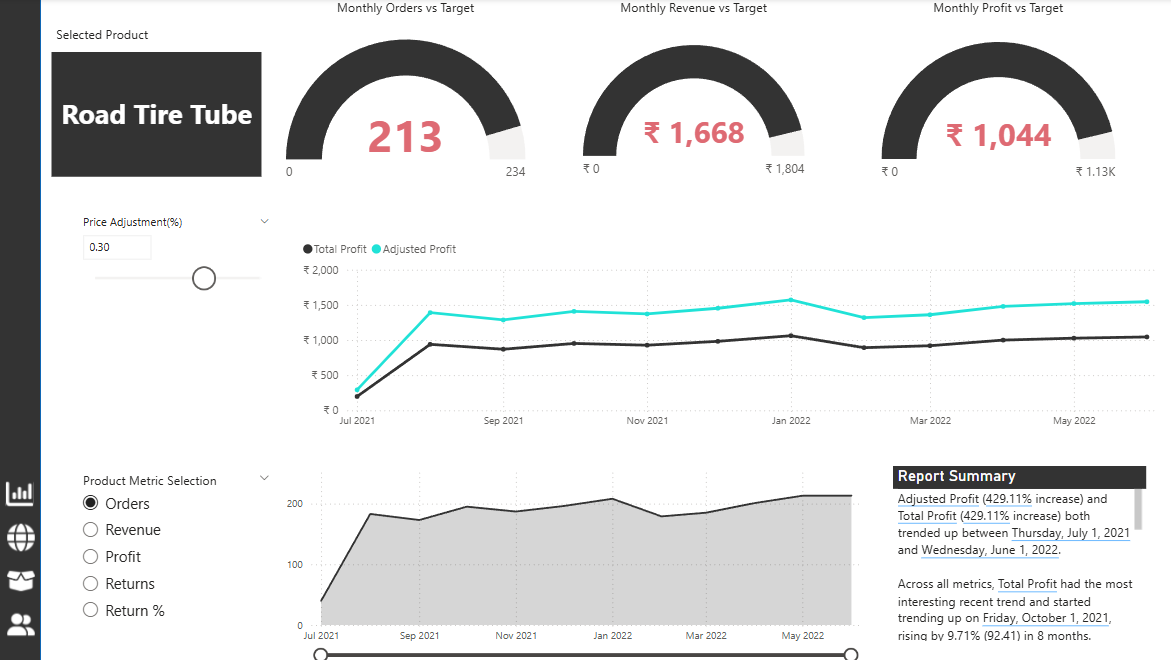

Layout of this report page (visuals, bound fields, positions):
{"tool":"powerbi","page":{"name":"Product Detail","canvas":[1280,720],"ordinal":2},"visuals":[{"type":"shape","box":[0,0,45.3,720.6],"z":0},{"type":"actionButton","box":[2.5,516.7,45.6,37.8],"z":0,"group":"g1"},{"type":"gauge","title":"Monthly Orders vs Target","fields":{"Y":["Measure Table.Total Orders"],"MaxValue":["Measure Table.Order Target"]},"box":[304.4,0,268.8,228.3],"z":1000},{"type":"actionButton","box":[3.3,563.4,45.6,37.8],"z":1000,"group":"g1"},{"type":"gauge","title":"Monthly Profit vs Target","fields":{"Y":["Measure Table.Total Profit"],"MaxValue":["Measure Table.Profit Target"]},"box":[946.8,0,262.7,230.6],"z":2000},{"type":"actionButton","box":[3.3,611.1,45.6,37.8],"z":2000,"group":"g1"},{"type":"gauge","title":"Monthly Revenue vs Target","fields":{"Y":["Measure Table.Total Revenue"],"MaxValue":["Measure Table.Revenue Target"]},"box":[624.6,0,249.5,230.6],"z":3000},{"type":"actionButton","box":[3.3,657.8,45.6,37.8],"z":3000,"group":"g1"},{"type":"areaChart","title":"Profit Trending","fields":{"Y":["Measure Table.Total Profit","Measure Table.Adjusted Profit"],"Category":["Calendar Lookup.Date Hierarchy.Start of Year","Calendar Lookup.Date Hierarchy.Start of Month","Calendar Lookup.Date Hierarchy.Start of Week","Calendar Lookup.Date Hierarchy.Date"]},"box":[322.2,251,945.6,221.8],"z":4000},{"type":"card","fields":{"Values":["Min(Product Lookup.ProductName)"]},"box":[56.7,58.3,226.7,134.4],"z":5000},{"type":"textbox","box":[56.7,24.3,173.3,34],"z":6000},{"type":"group","id":"g1","title":"Navigation Buttons","box":[2.5,516.7,46.4,178.9],"z":7000},{"type":"slicer","fields":{"Values":["Price Adjustment(%).Price Adjustment(%)"]},"box":[77.7,228.3,226.7,108.5],"z":8000},{"type":"slicer","fields":{"Values":["Product Metric Selection.Product Metric Selection"]},"box":[77.7,505.2,226.7,189.4],"z":9000},{"type":"areaChart","title":"Return Trending","fields":{"Y":["Measure Table.Total Orders"],"Category":["Calendar Lookup.Date Hierarchy.Start of Month","Calendar Lookup.Date Hierarchy.Start of Week","Calendar Lookup.Date Hierarchy.Date"]},"box":[304.4,498.7,644.5,221.8],"z":10000},{"type":"textbox","title":"Report Summary","box":[965.1,505.2,273.6,192.7],"z":11000}]}

Visuals, with their boxes on the page's 1280x720 design canvas (x1, y1, x2, y2). These are canvas units, not pixel positions in the 1171x660 screenshot, which may show the page scaled, cropped or inside an application window:
shape: bbox(0, 0, 45, 721)
actionButton: bbox(2, 517, 48, 554)
"Monthly Orders vs Target" gauge: bbox(304, 0, 573, 228)
actionButton: bbox(3, 563, 49, 601)
"Monthly Profit vs Target" gauge: bbox(947, 0, 1210, 231)
actionButton: bbox(3, 611, 49, 649)
"Monthly Revenue vs Target" gauge: bbox(625, 0, 874, 231)
actionButton: bbox(3, 658, 49, 696)
"Profit Trending" areaChart: bbox(322, 251, 1268, 473)
card - Min(Product Lookup.ProductName): bbox(57, 58, 283, 193)
textbox: bbox(57, 24, 230, 58)
"Navigation Buttons" group: bbox(2, 517, 49, 696)
slicer - Price Adjustment(%).Price Adjustment(%): bbox(78, 228, 304, 337)
slicer - Product Metric Selection.Product Metric Selection: bbox(78, 505, 304, 695)
"Return Trending" areaChart: bbox(304, 499, 949, 720)
"Report Summary" textbox: bbox(965, 505, 1239, 698)
